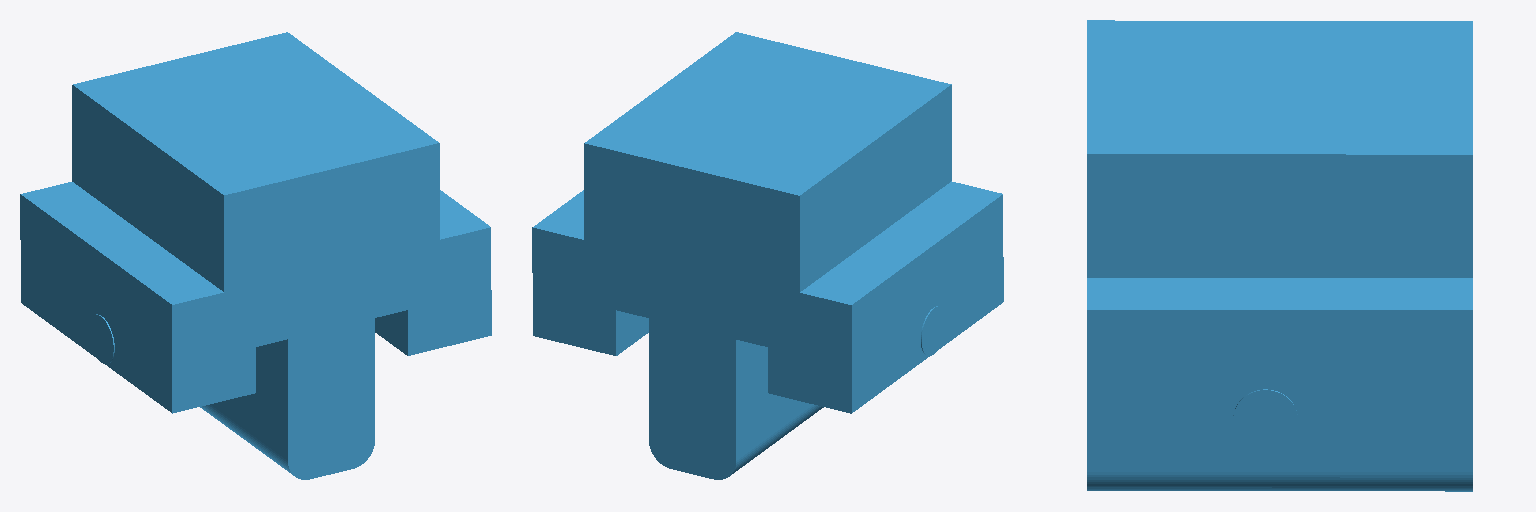
robot.urdf — 6dof:
<robot name="6dof">

    <link name="base_link">
    </link>

    <link name="body">
        <visual>
            <geometry>
                <mesh filename="package://six_dof/meshes/Chassis.stl" scale="0.001 0.001 0.001"/>
            </geometry>
        </visual>
    </link>
    <!--
    <link name="left thigh">
        <visual>
            <geometry>
                <mesh filename="package://six_dof/meshes/LeftThighForUrdf.stl" scale="0.001 0.001 0.001"/>
            </geometry>
        </visual>
    </link>

    <link name="right thigh">
        <visual>
            <geometry>
                <mesh filename="package://six_dof/meshes/RightThighForUrdf.stl" scale="0.001 0.001 0.001"/>
            </geometry>
        </visual>
    </link>

    <link name="left shin">
        <visual>
            <geometry>
                <mesh filename="package://six_dof/meshes/leftknee.stl" scale="0.001 0.001 0.001"/>
            </geometry>
        </visual>
    </link>

    <link name="right shin">
        <visual>
            <geometry>
                <mesh filename="package://six_dof/meshes/rightknee.stl" scale="0.001 0.001 0.001"/>
            </geometry>
        </visual>
    </link>

    <link name="left foot">
        <visual>
            <geometry>
                <mesh filename="package://six_dof/meshes/leftfoot.stl" scale="0.001 0.001 0.001"/>
            </geometry>
        </visual>
    </link>

    <link name="right foot">
        <visual>
            <geometry>
                <mesh filename="package://six_dof/meshes/rightfoot.stl" scale="0.001 0.001 0.001"/>
            </geometry>
        </visual>
    </link>
    <-->
    <joint name="base" type="fixed">
        <parent link="base_link"/>
        <child link="body"/>
        <origin xyz="0 0 0" rpy="1.57 0 0"/>
    </joint>

</robot>

--- Facts derived from the render (not from the file) ---
The picture shows the robot from 3 angles, left to right: view 1: azimuth 30°, elevation 25°; view 2: azimuth 150°, elevation 25°; view 3: azimuth 270°, elevation 25°; orthographic projection.
Robot: 6dof — 2 links, 1 joints (1 fixed); root link base_link; default pose: every joint at zero.
Links seen in each view (by area): view 1: body; view 2: body; view 3: body.
Boxes of the visible links, box(x1,y1,x2,y2) form: body: box(20, 32, 491, 479); body: box(532, 32, 1003, 479); body: box(1087, 20, 1472, 491).
Bounding box of the posed robot: 0.1417 × 0.1161 × 0.1285 m (x, y, z).
Meshes: 1 distinct files referenced, 1 mesh visuals loaded (1 binary STL).